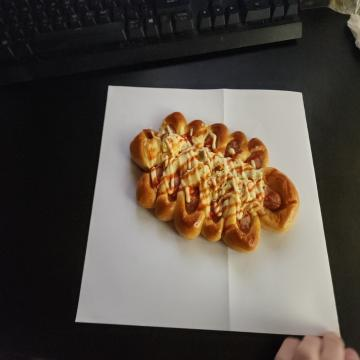pizza_bread: (127, 112, 301, 255)
